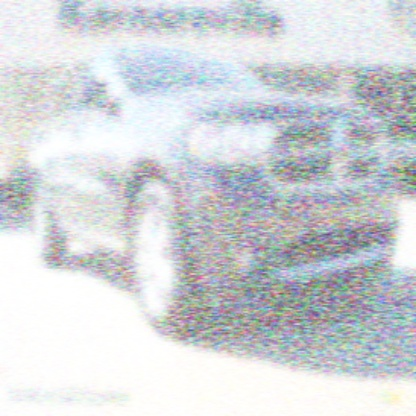Vehicle: (27, 44, 402, 338)
